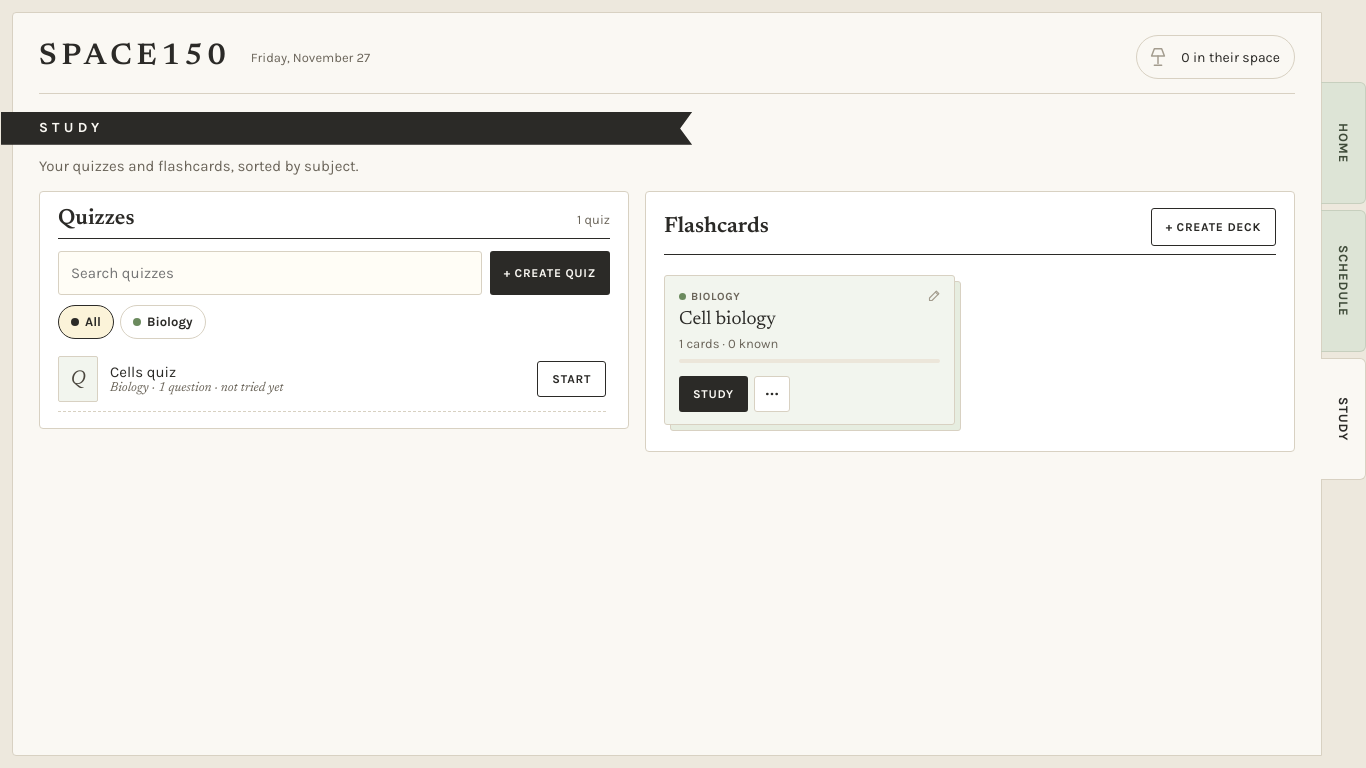
Scenario: decks open and can be studied offline; marks are sent once back online
Later steps or results of the test are not shown.
Expected: the text "Cell biology" is shown, left=679, top=310, right=776, bottom=329
Click the button with aria-label "Study Cell biology" at coordinates (713, 394), box left=679, top=376, right=748, bottom=412
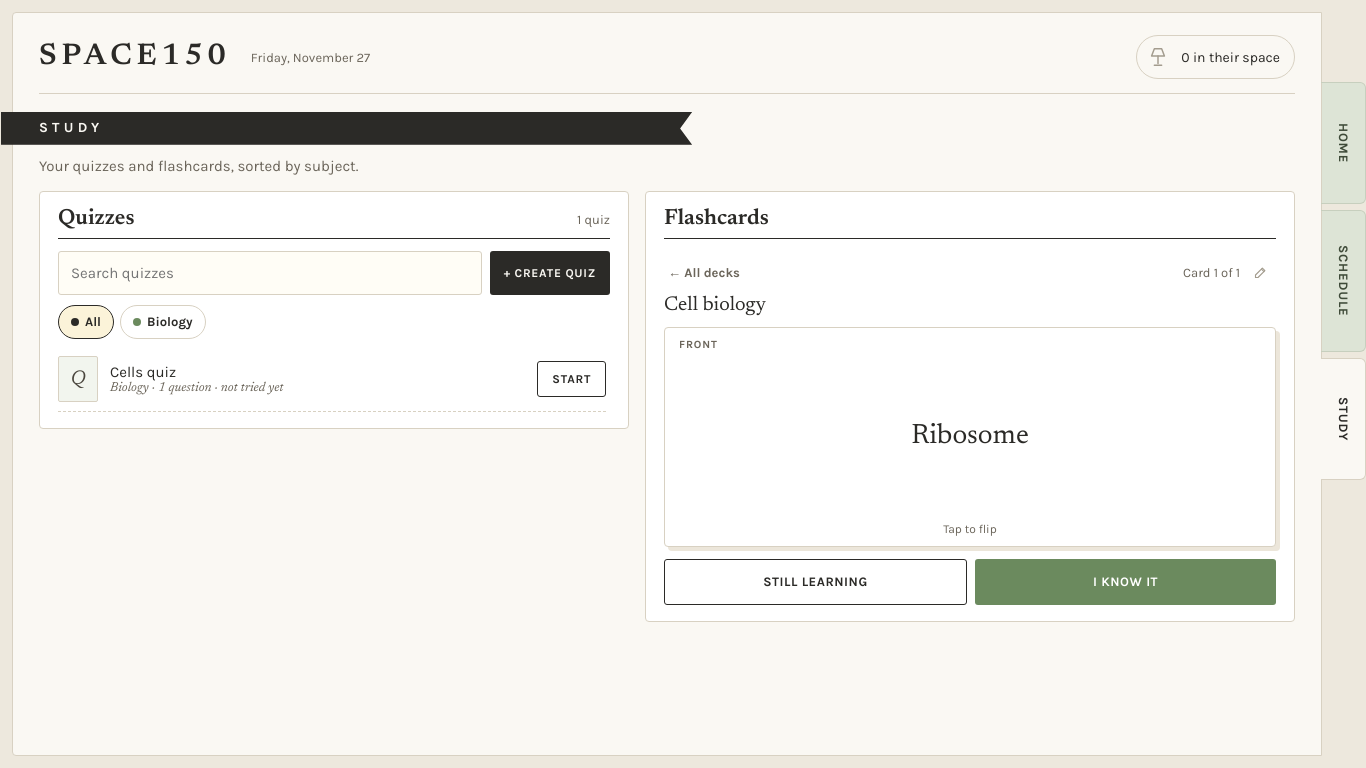
Expected: the text "Ribosome" is shown, left=911, top=419, right=1029, bottom=454
